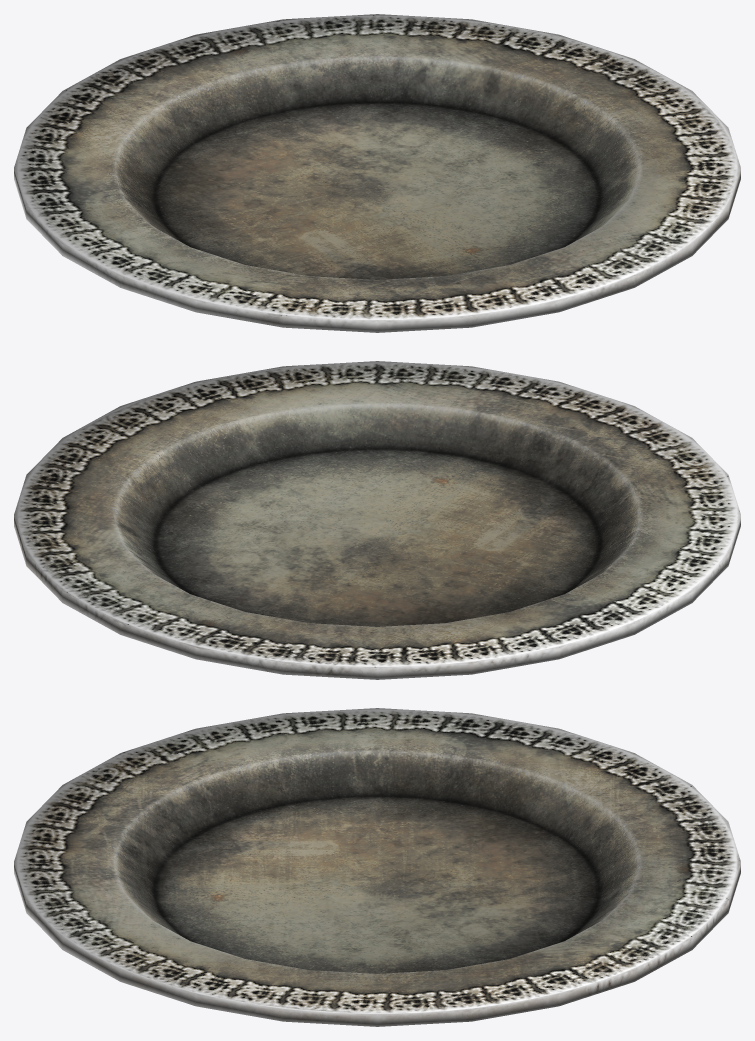
Rendered from SM_plate.fbx.
3 renders of one model, top to bottom at view 1: azimuth 30°, elevation 25°; view 2: azimuth 150°, elevation 25°; view 3: azimuth 270°, elevation 25°, orthographic.
Visible parts, largest first — view 1: SM_plate; view 2: SM_plate; view 3: SM_plate.
Part boxes in pixels (x1,y1,x2,y2): SM_plate: (14, 14, 740, 332); SM_plate: (14, 361, 740, 679); SM_plate: (14, 708, 740, 1026).
Size of the model in its own units: 38.62 by 38.62 by 2.34.
Materials: 1 (1 with a texture image).
